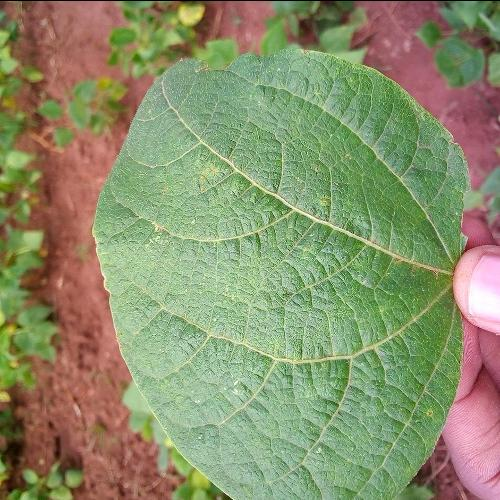mozaik: (195, 127, 431, 446), (146, 205, 172, 248)
